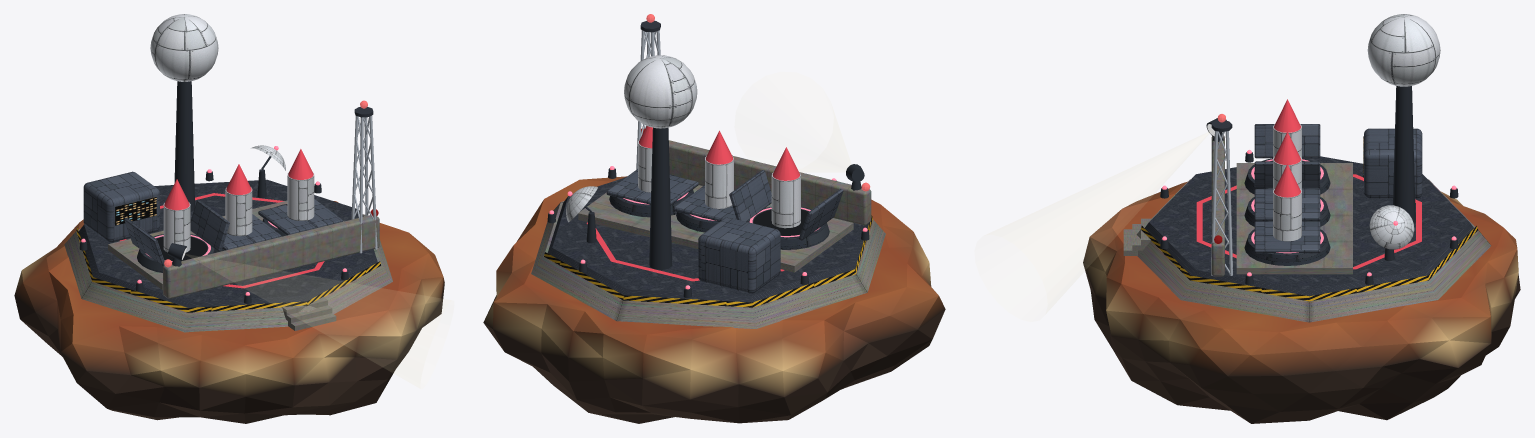
File: silo-L100.glb
3 views of the same model, side by side, from view 1: azimuth 30°, elevation 25°; view 2: azimuth 150°, elevation 25°; view 3: azimuth 270°, elevation 25° (orthographic). The views are drawn at different scales.
Parts seen in each view (by area): view 1: object 1, object 4, object 44, object 2, anim:cell (×3), object 52, object 47, anim:doorR (×3), object 51, object 3, anim:doorL (×2), object 25 (+6 smaller); view 2: object 1, object 4, object 2, object 47, anim:cell (×3), object 44, object 52, object 25, object 51, anim:doorR (×3), object 3, anim:doorL (×2) (+6 smaller); view 3: object 1, object 4, object 2, object 25, object 52, anim:cell (×3), anim:doorR (×3), object 47, object 51, anim:doorL (×3), object 3, anim:rot (+3 smaller).
Boxes of the visible parts, box(x1,y1,x2,y2) form: object 1: box(14, 201, 444, 423); object 4: box(79, 179, 377, 307); object 44: box(163, 215, 379, 298); object 2: box(64, 214, 392, 332); anim:cell (×3): box(163, 149, 314, 252); object 52: box(150, 14, 218, 81); object 47: box(83, 171, 159, 242); anim:doorR (×3): box(190, 199, 343, 251); object 51: box(174, 81, 194, 211); object 3: box(76, 227, 380, 312); anim:doorL (×2): box(124, 205, 315, 265); object 25: box(108, 200, 343, 290); object 1: box(483, 176, 945, 423); object 4: box(547, 178, 869, 302); object 2: box(531, 201, 885, 328); object 47: box(698, 217, 780, 293); anim:cell (×3): box(638, 126, 800, 228); object 44: box(668, 140, 871, 225); object 52: box(624, 55, 697, 128); object 25: box(578, 185, 853, 272); object 51: box(649, 127, 672, 269); anim:doorR (×3): box(606, 169, 771, 221); object 3: box(544, 215, 872, 307); anim:doorL (×2): box(636, 175, 843, 240); object 1: box(1083, 181, 1520, 423); object 4: box(1144, 156, 1473, 296); object 2: box(1136, 179, 1491, 322); object 25: box(1236, 163, 1352, 274); object 52: box(1367, 14, 1440, 86); anim:cell (×3): box(1273, 99, 1301, 241); anim:doorR (×3): box(1254, 161, 1320, 253); object 47: box(1364, 128, 1422, 198); object 51: box(1393, 86, 1415, 223); anim:doorL (×3): box(1254, 124, 1320, 236); object 3: box(1140, 225, 1477, 301); anim:rot: box(1369, 205, 1414, 249).
Bounding box in the file's own units: 6.16 × 5.28 × 7.49.
Materials: 17 (7 with a texture image).
